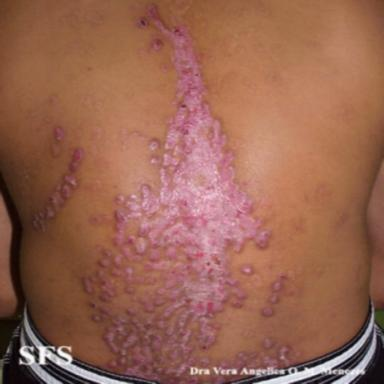Epidermolysis-Bullosa-Pruriginosa: (83, 7, 270, 379), (33, 147, 85, 231), (261, 273, 288, 317), (51, 127, 65, 156), (279, 346, 290, 367), (263, 338, 273, 349), (91, 216, 102, 225), (241, 265, 252, 274), (159, 64, 169, 73)
